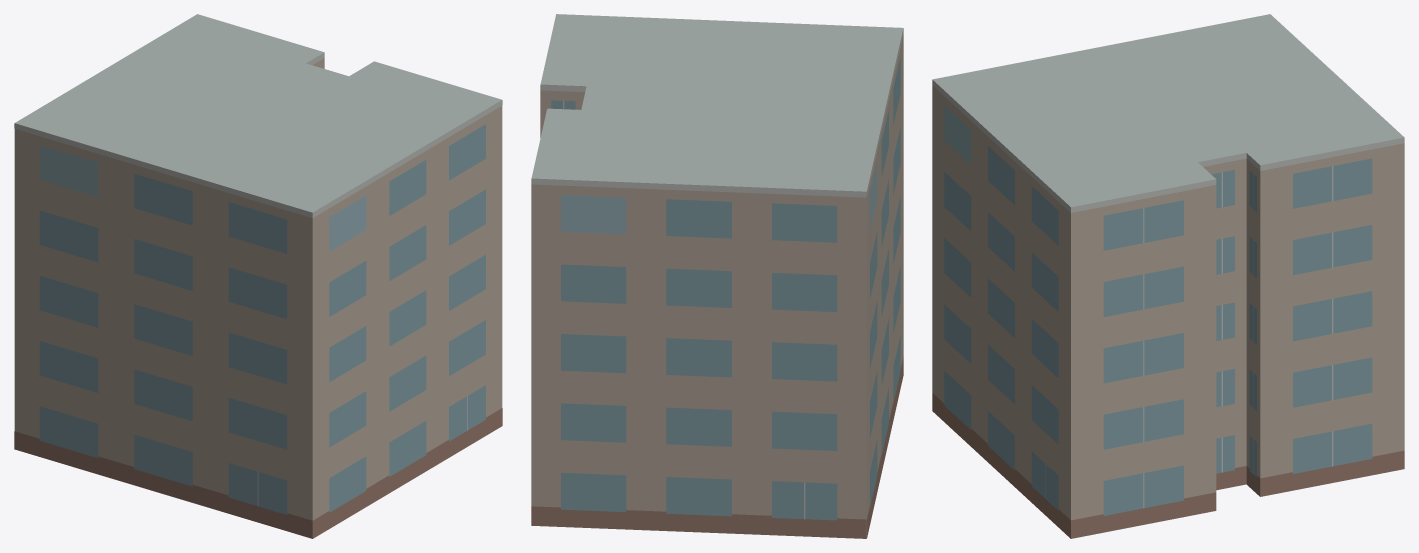
Rendered from survey-upis-32621515.glb.
3 renders of one model, left to right at view 1: azimuth 30°, elevation 25°; view 2: azimuth 150°, elevation 25°; view 3: azimuth 270°, elevation 25°, orthographic. The views are drawn at different scales.
Parts seen in each view (by area): view 1: survey-upis-32621515.tmp; view 2: survey-upis-32621515.tmp; view 3: survey-upis-32621515.tmp.
Part boxes in pixels (box(x1,y1,x2,y2)): survey-upis-32621515.tmp: box(14, 14, 502, 538); survey-upis-32621515.tmp: box(531, 14, 903, 538); survey-upis-32621515.tmp: box(932, 14, 1404, 538).
Bounding box in the file's own units: 17.9 × 14.3 × 18.48.
